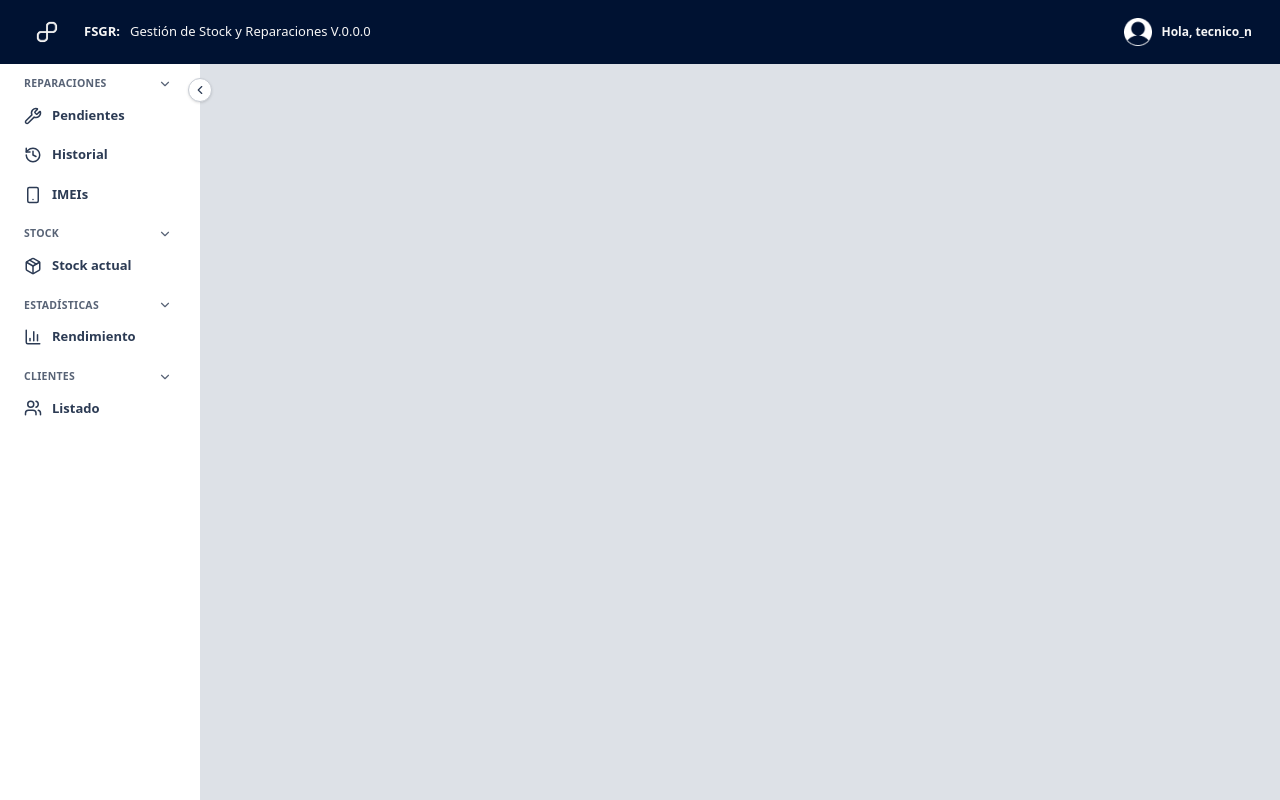
Test case: "Cambiar contraseña" desde el menú de usuario (spec §6.3, G6) › técnico: abre el diálogo sobre la vista actual, sin navegar
The width and height of the screenshot is (1280, 800).
Click the button "Hola, tecnico_n" at (1188, 32), box [1116, 14, 1260, 50]
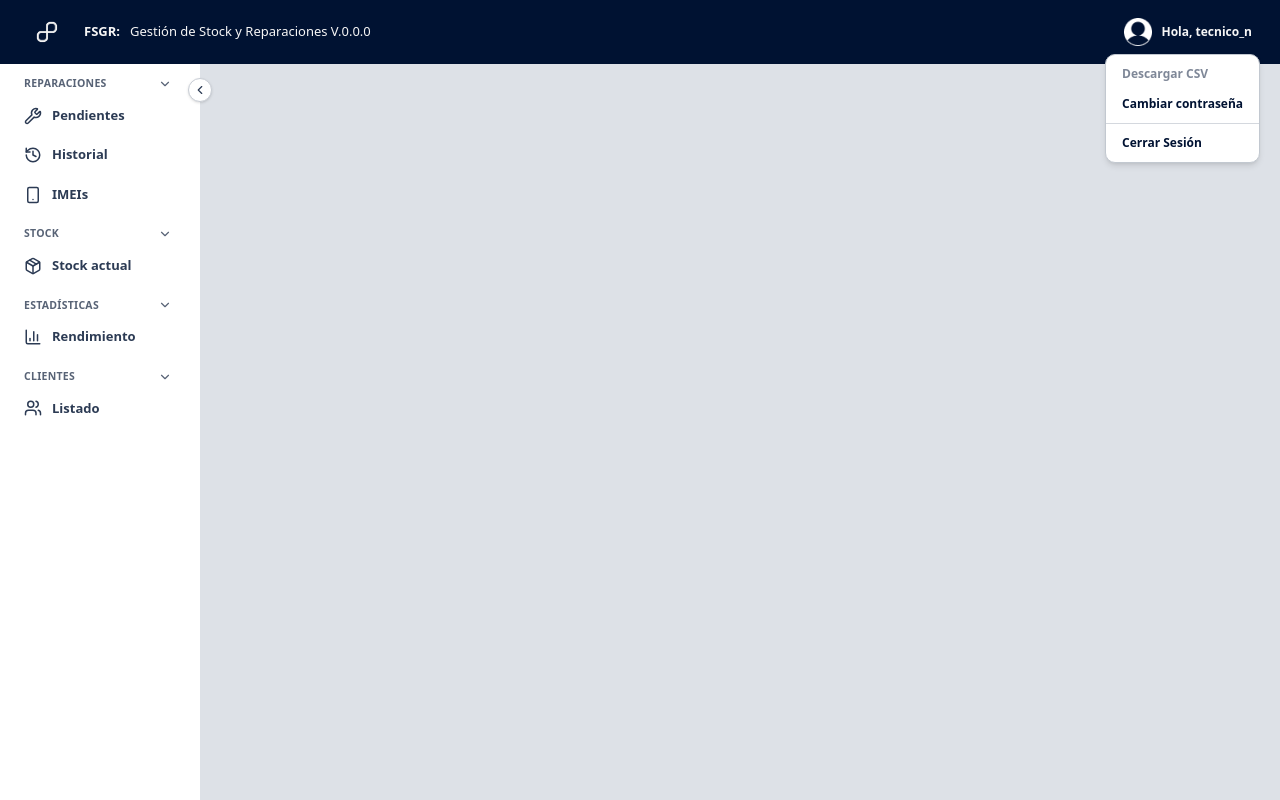
Click the menu item "Cambiar contraseña" at (1183, 104), box [1122, 95, 1243, 112]
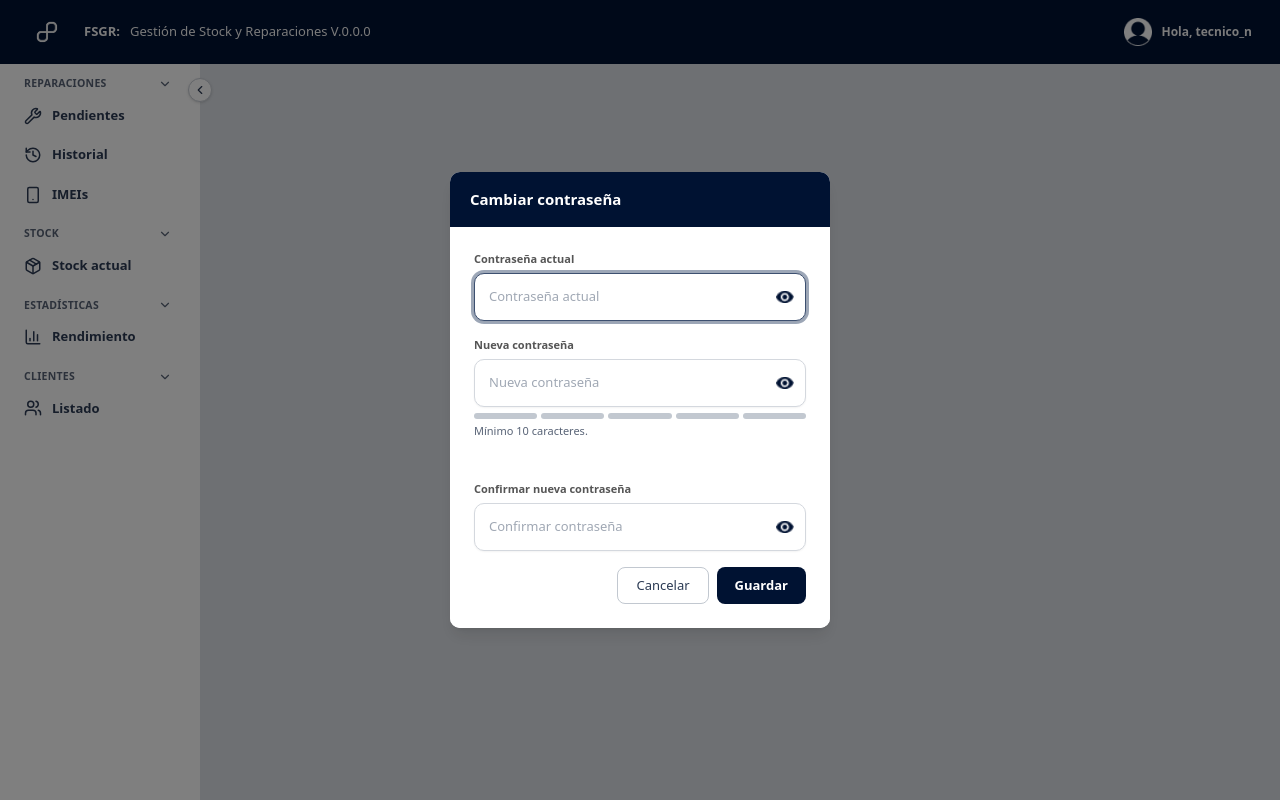
Expected: the text "FSGR:" is shown, [84, 22, 120, 42]
Now the password field labelled "Contraseña actual" is shown, box [474, 273, 806, 320]
